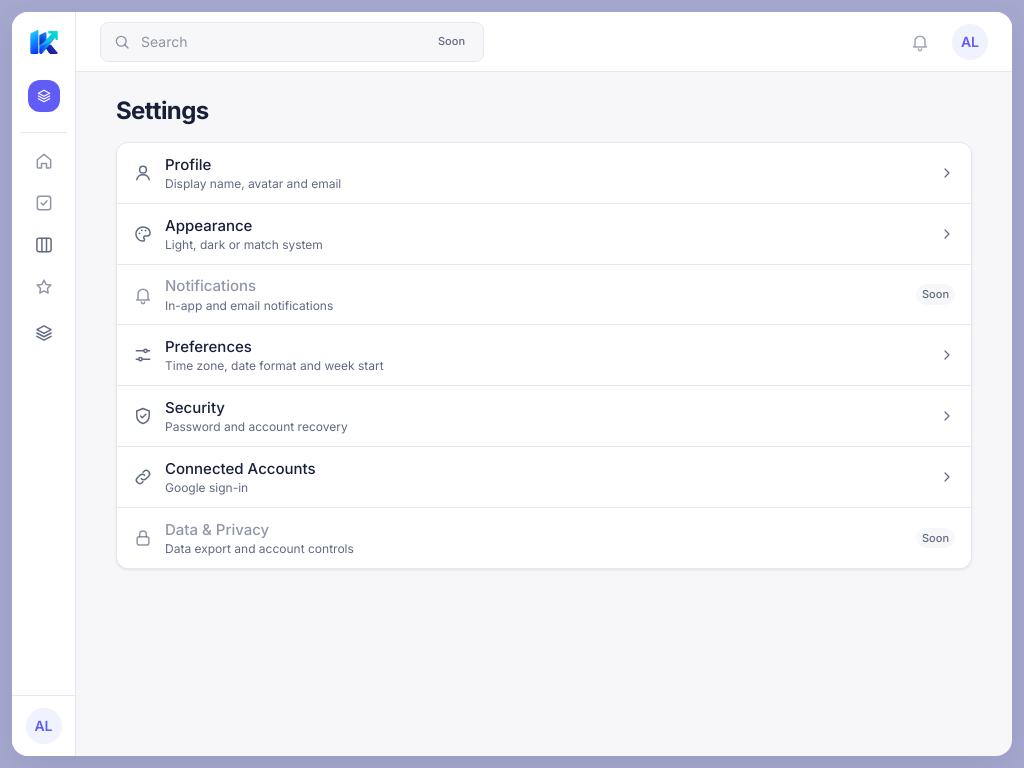
it: Settings on phones › shows the section list at /settings, then a detail page with Back
Expected: the heading "Settings" is shown, left=116, top=96, right=209, bottom=125
Expected: the text "Password and account recovery" is shown, left=165, top=419, right=348, bottom=434
Step 1. Click the link "Security Password and account recovery" → click(195, 407), box left=117, top=386, right=971, bottom=446
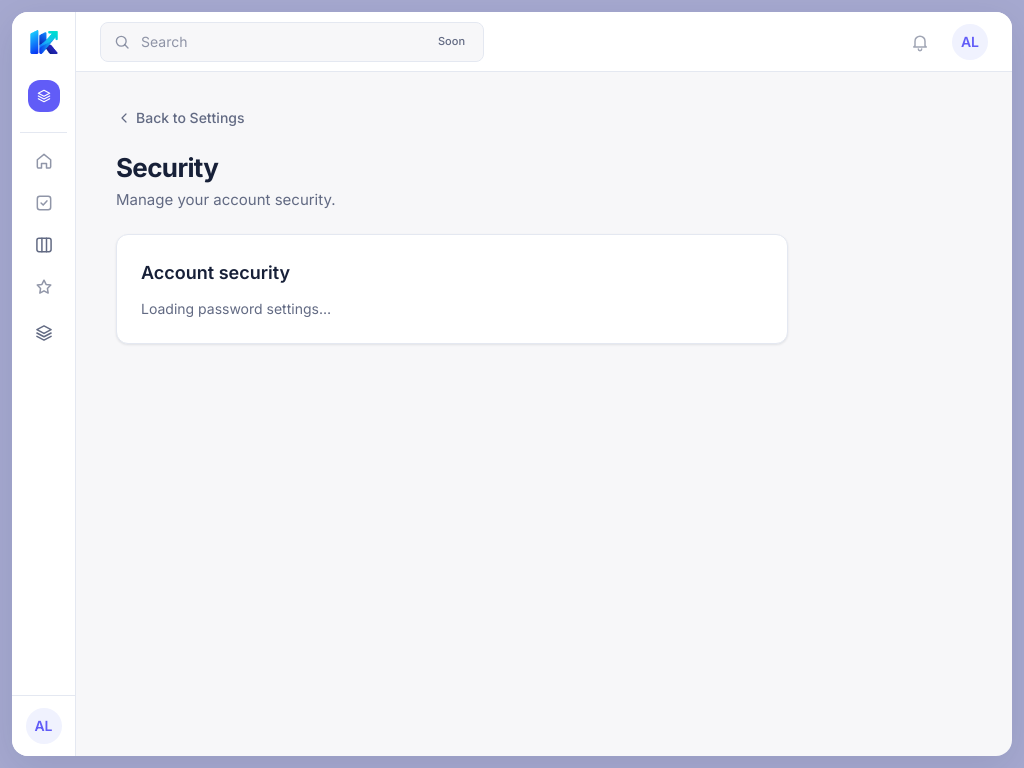
Now the heading "Account security" is shown, box left=141, top=262, right=290, bottom=283
Step 2. Click the link "Back to Settings" → click(180, 118), box left=116, top=109, right=244, bottom=126
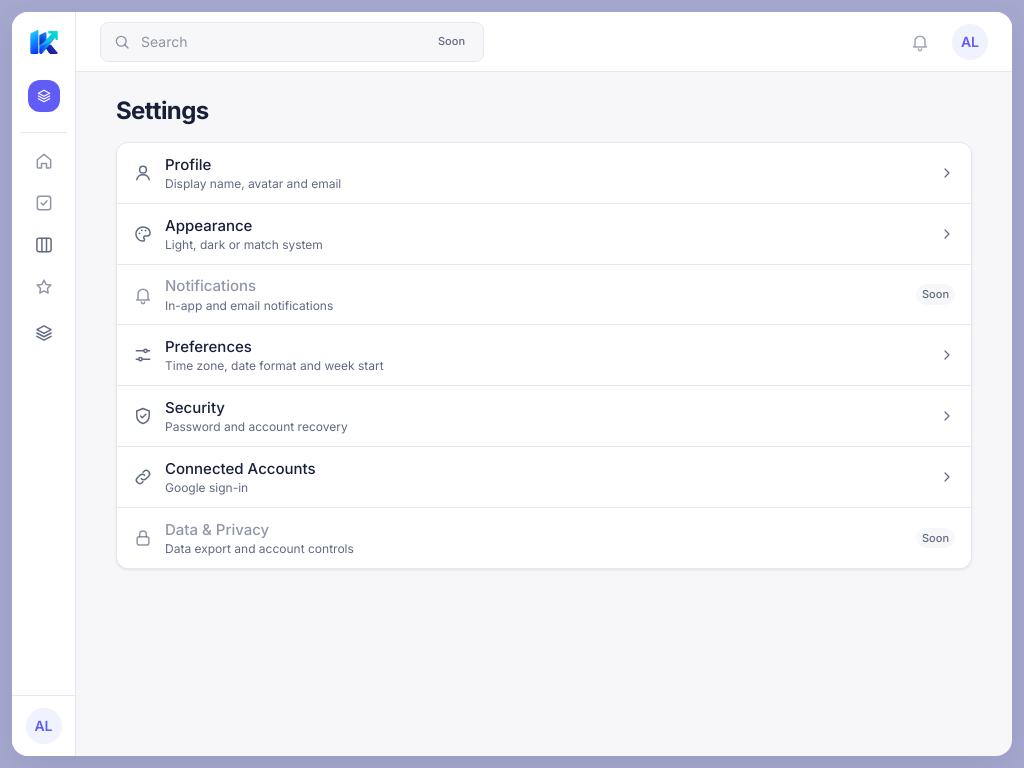
Now the heading "Settings" is shown, box left=116, top=96, right=209, bottom=125
